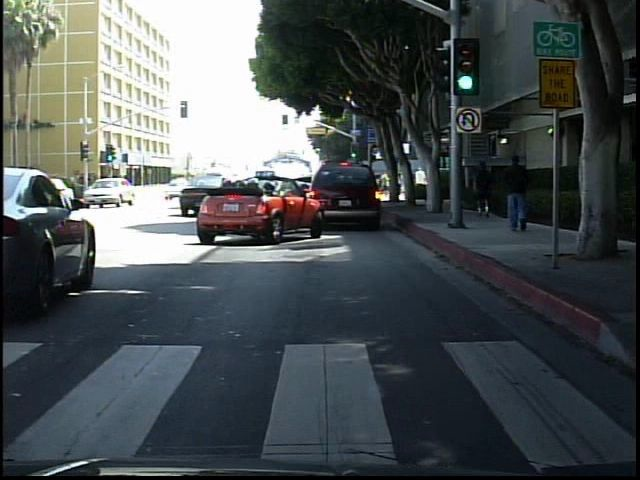person: (501, 147, 536, 239), (474, 156, 498, 221)
